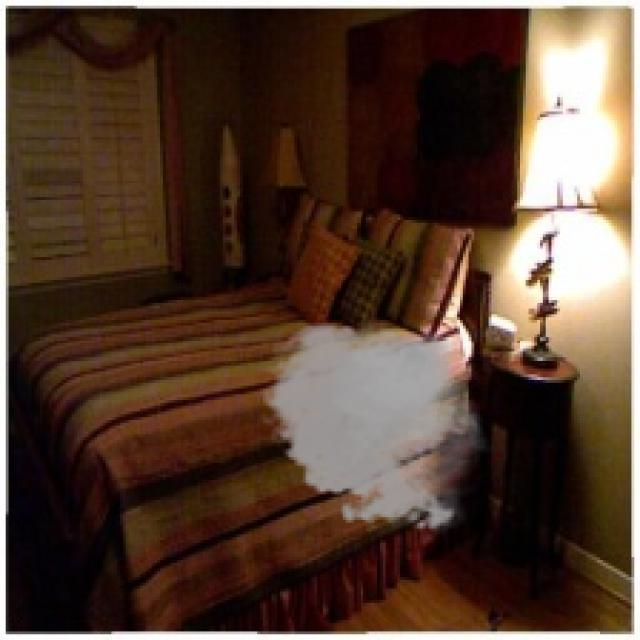Smoke: (255, 314, 494, 537)
